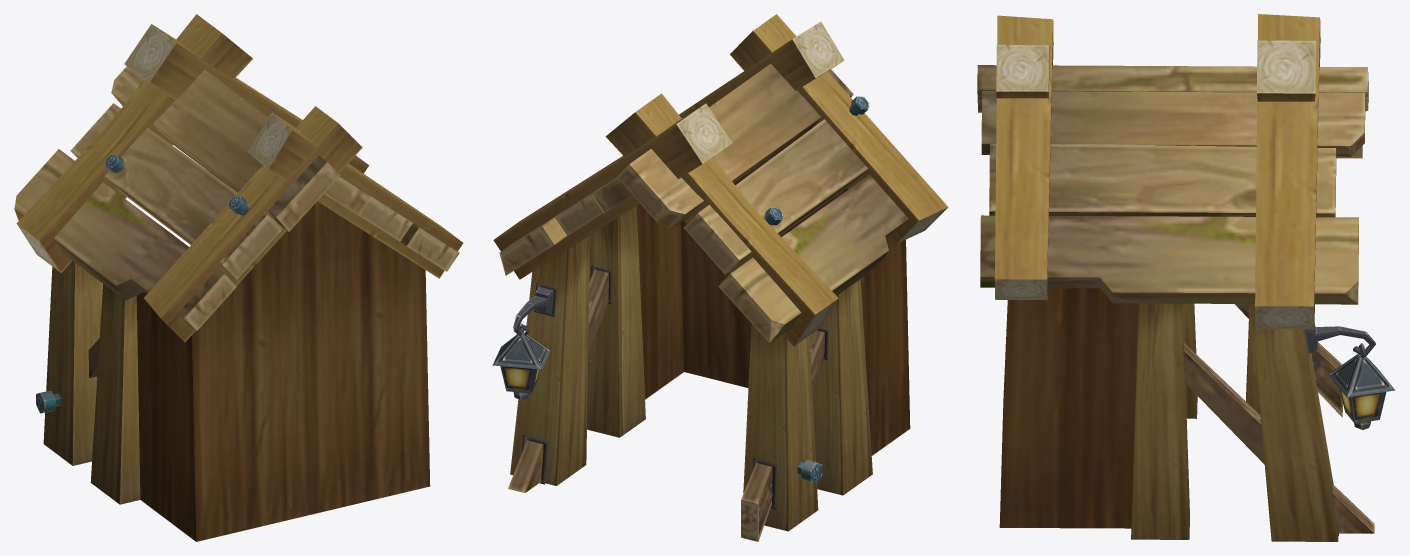
File: Bui_muwu.FBX
3 renders of one model, left to right at view 1: azimuth 30°, elevation 25°; view 2: azimuth 150°, elevation 25°; view 3: azimuth 270°, elevation 25°, orthographic. The views are drawn at different scales.
Visible parts, largest first — view 1: Bui_muwu; view 2: Bui_muwu; view 3: Bui_muwu.
Part boxes in pixels (x1=…): Bui_muwu: x1=14, y1=14, x2=463, y2=541; Bui_muwu: x1=492, y1=14, x2=947, y2=541; Bui_muwu: x1=977, y1=14, x2=1395, y2=541.
Bounding box in the file's own units: 0.0866 × 0.1001 × 0.0855.
Materials: 1 (1 with a texture image).
